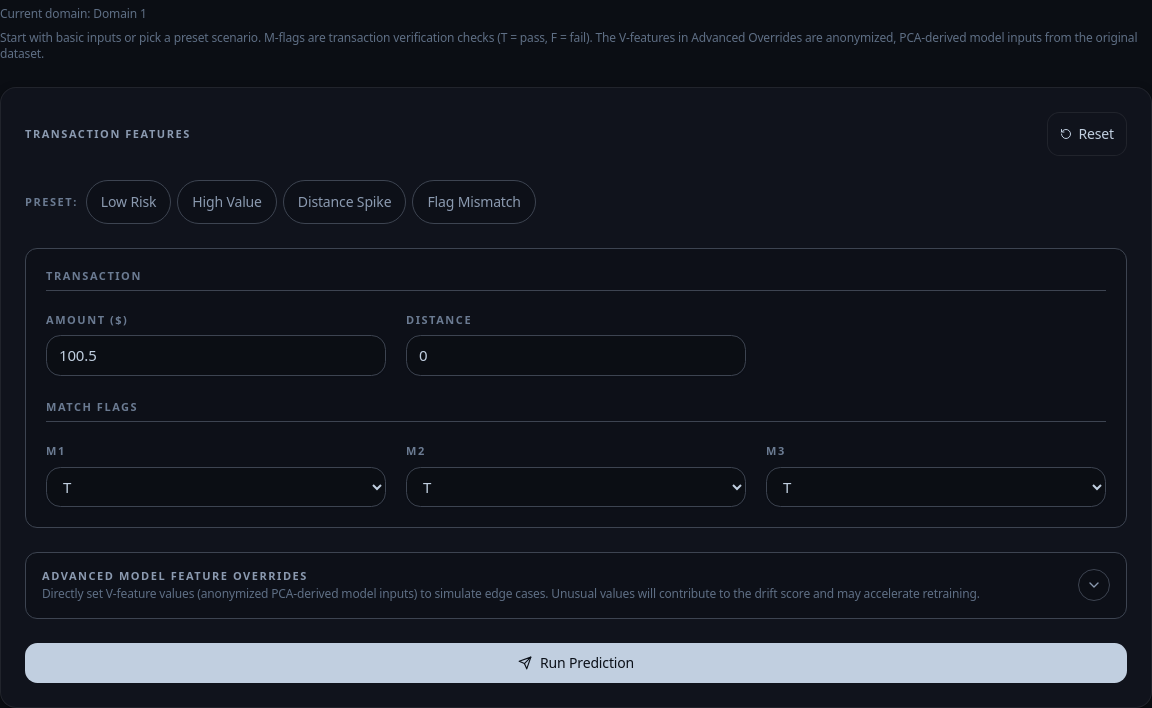
Test case: TestPanel › renders Fraud Detected when ACTION_PREDICT returns fraud
(page scrolled)
Click the button "Run Prediction" at [576, 663], box top-left (25, 643), bottom-right (1127, 683)
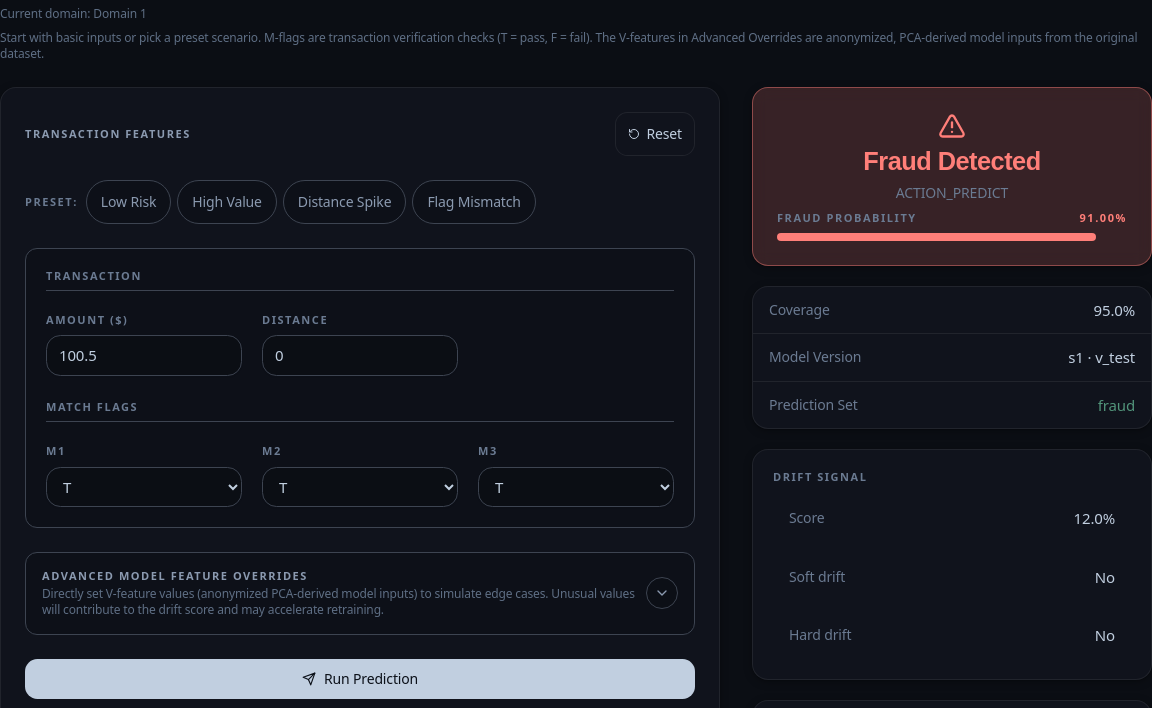
Expected: the text "Fraud Detected" is shown, top-left (863, 147), bottom-right (1041, 175)
Expected: the text "ACTION_PREDICT" is shown, top-left (896, 183), bottom-right (1008, 202)
Expected: the text "91.00%" is shown, top-left (1080, 211), bottom-right (1127, 224)
